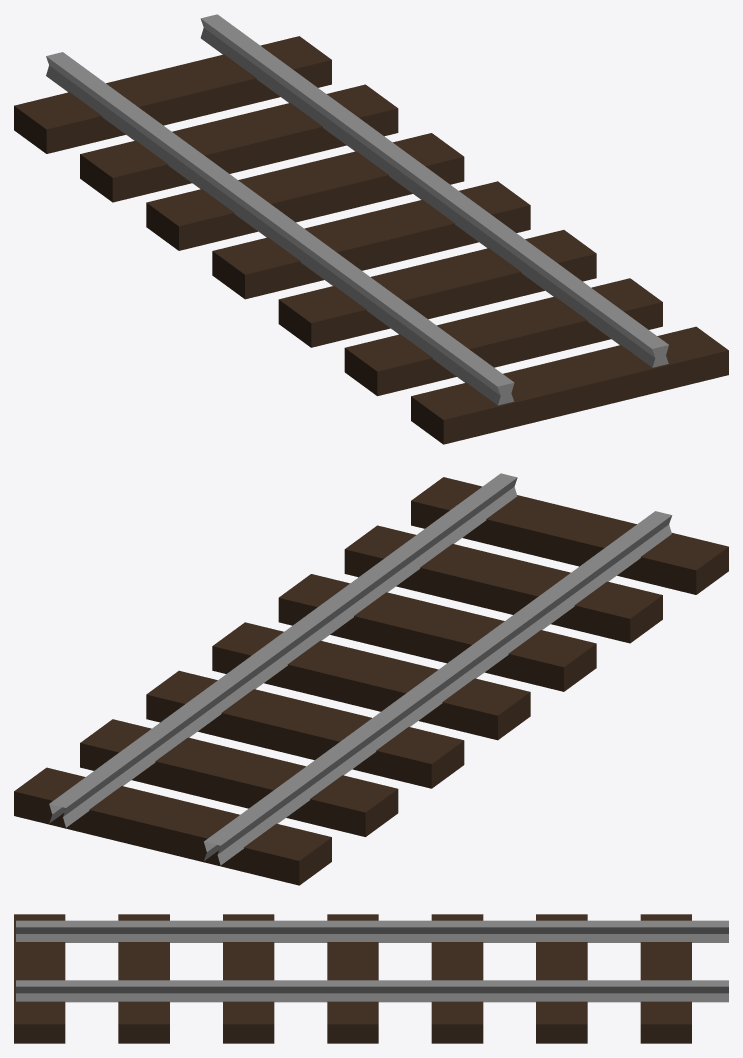
File: rails_mat.fbx
3 views of the same model, one above another, from view 1: azimuth 30°, elevation 25°; view 2: azimuth 150°, elevation 25°; view 3: azimuth 270°, elevation 25° (orthographic). The views are drawn at different scales.
Visible parts, largest first — view 1: rails_mat; view 2: rails_mat; view 3: rails_mat.
Boxes of the visible parts, x1,y1,x2,y2 form: rails_mat: (14, 14, 728, 444); rails_mat: (14, 473, 728, 885); rails_mat: (14, 914, 728, 1043).
Size of the model in its own units: 107 by 15.61 by 294.
